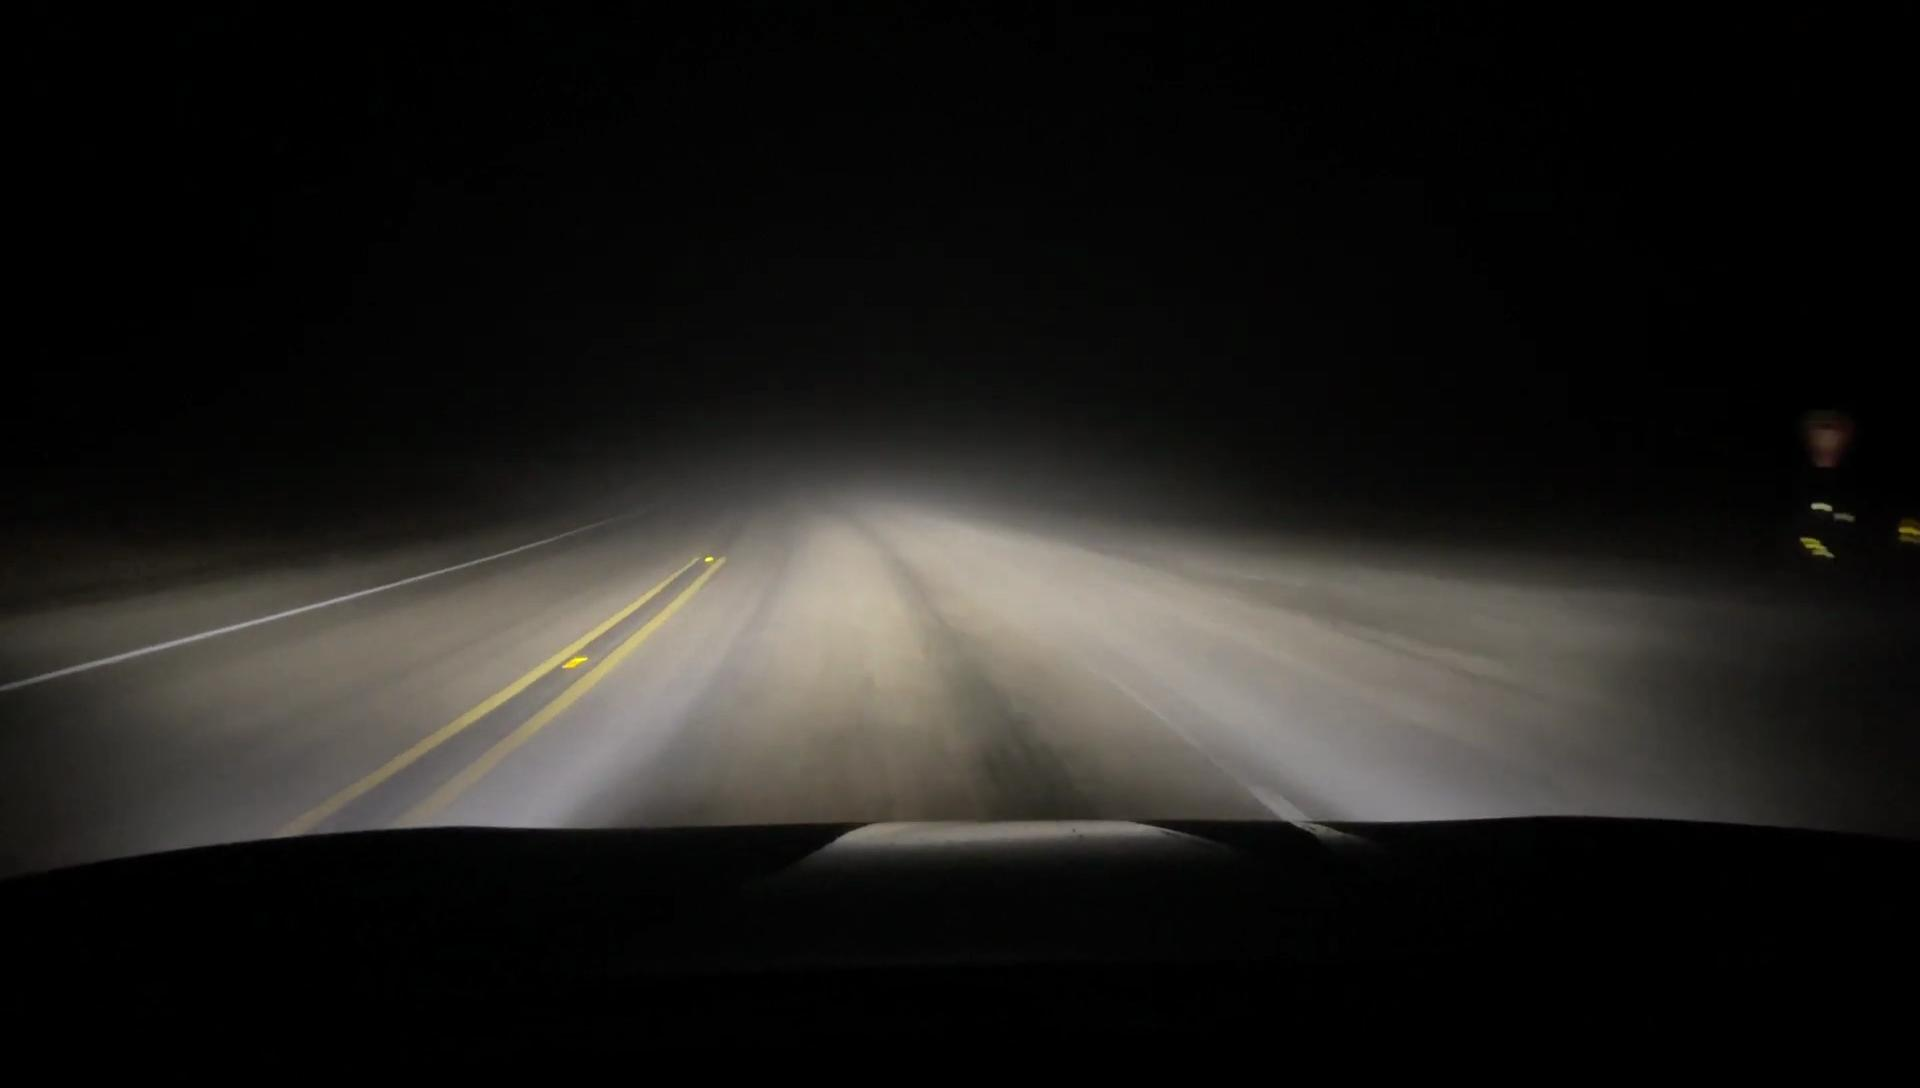road-lanes: (418, 481, 1303, 828)
